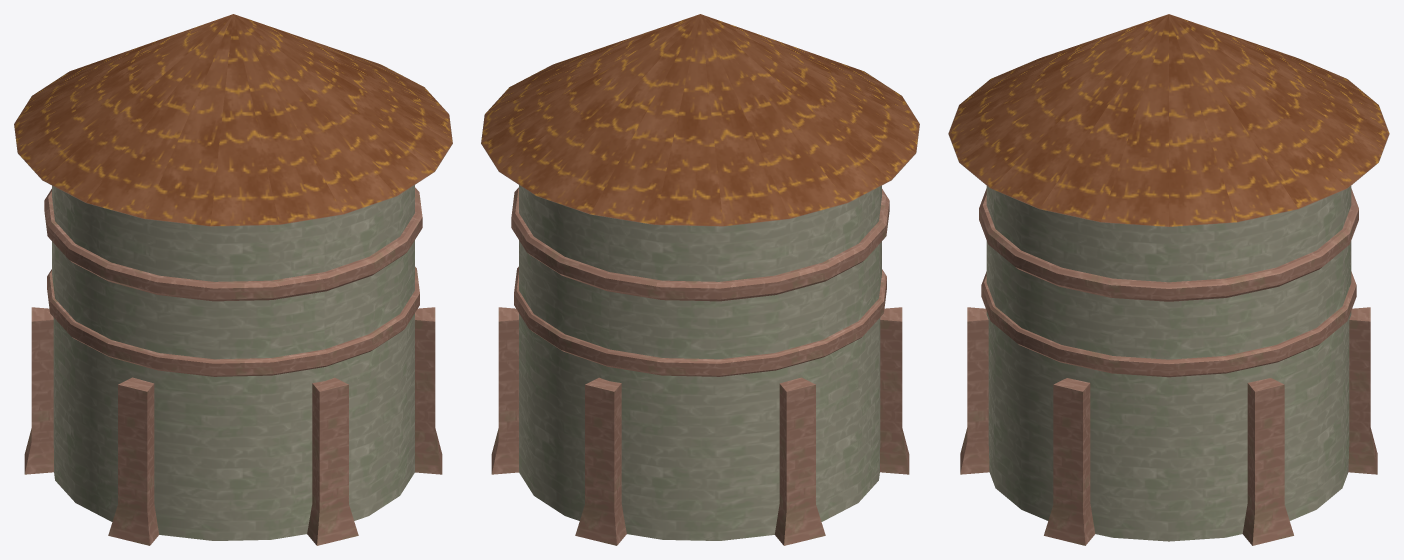
File: SM_Building_002_BigTower.fbx
3 views of the same model, side by side, from view 1: azimuth 30°, elevation 25°; view 2: azimuth 150°, elevation 25°; view 3: azimuth 270°, elevation 25° (orthographic).
Parts seen in each view (by area): view 1: polySurface711; view 2: polySurface711; view 3: polySurface711.
Part boxes in pixels (x1=…): polySurface711: x1=14, y1=14, x2=452, y2=545; polySurface711: x1=481, y1=14, x2=919, y2=545; polySurface711: x1=948, y1=14, x2=1389, y2=545.
Size of the model in its own units: 483 by 544 by 483.
